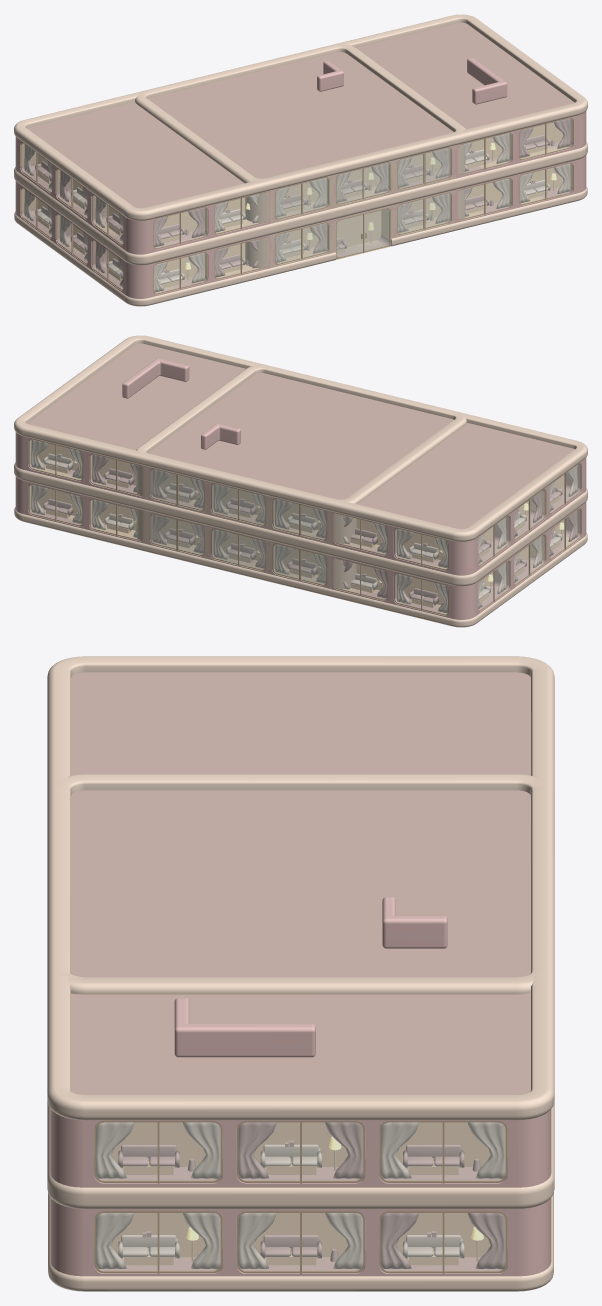
File: city-buildings-v59.glb
3 renders of one model, top to bottom at view 1: azimuth 30°, elevation 25°; view 2: azimuth 150°, elevation 25°; view 3: azimuth 270°, elevation 25°, orthographic. The views are drawn at different scales.
Visible parts, largest first — view 1: city-building-03__arch59_roof_stone, city-building-03__arch59_pillow_trim, city-building-03__room59_glass_sage, city-building-03__arch59_blush, city-building-01__arch59_pillow_trim, city-building-01__arch59_roof_stone, city-building-03__room59_warm_backing, city-building-03__room59_curtain_ivory, city-building-01__room59_glass_sage, city-building-03__room59_curtain_blush, city-building-03__arch59_champagne_frame, city-building-01__arch59_cream (+8 smaller); view 2: city-building-03__arch59_roof_stone, city-building-03__arch59_pillow_trim, city-building-01__arch59_roof_stone, city-building-03__room59_glass_sage, city-building-03__arch59_blush, city-building-01__arch59_pillow_trim, city-building-03__room59_curtain_ivory, city-building-03__room59_warm_backing, city-building-01__room59_glass_sage, city-building-01__arch59_cream, city-building-03__arch59_champagne_frame, city-building-03__room59_curtain_blush (+8 smaller); view 3: city-building-03__arch59_roof_stone, city-building-01__arch59_roof_stone, city-building-03__arch59_pillow_trim, city-building-03__room59_glass_sage, city-building-03__arch59_blush, city-building-01__arch59_pillow_trim, city-building-03__room59_warm_backing, city-building-03__room59_curtain_ivory, city-building-03__room59_curtain_blush, city-building-03__arch59_champagne_frame, city-building-05__room59_curtain_ivory, city-building-02__arch59_blush (+1 smaller).
Part boxes in pixels (x1=…): city-building-03__arch59_roof_stone: x1=27, y1=22, x2=574, y2=208; city-building-03__arch59_pillow_trim: x1=14, y1=14, x2=587, y2=306; city-building-03__room59_glass_sage: x1=22, y1=119, x2=571, y2=292; city-building-03__arch59_blush: x1=15, y1=57, x2=586, y2=298; city-building-01__arch59_pillow_trim: x1=135, y1=44, x2=465, y2=275; city-building-01__arch59_roof_stone: x1=148, y1=52, x2=453, y2=178; city-building-03__room59_warm_backing: x1=21, y1=119, x2=572, y2=294; city-building-03__room59_curtain_ivory: x1=24, y1=133, x2=570, y2=292; city-building-01__room59_glass_sage: x1=276, y1=149, x2=449, y2=262; city-building-03__room59_curtain_blush: x1=35, y1=118, x2=570, y2=287; city-building-03__arch59_champagne_frame: x1=20, y1=117, x2=573, y2=294; city-building-01__arch59_cream: x1=245, y1=144, x2=465, y2=268; city-building-03__arch59_roof_stone: x1=27, y1=343, x2=574, y2=529; city-building-03__arch59_pillow_trim: x1=14, y1=335, x2=587, y2=627; city-building-01__arch59_roof_stone: x1=148, y1=373, x2=453, y2=499; city-building-03__room59_glass_sage: x1=30, y1=440, x2=579, y2=613; city-building-03__arch59_blush: x1=15, y1=358, x2=586, y2=619; city-building-01__arch59_pillow_trim: x1=136, y1=365, x2=466, y2=596; city-building-03__room59_curtain_ivory: x1=31, y1=439, x2=577, y2=613; city-building-03__room59_warm_backing: x1=29, y1=440, x2=577, y2=615; city-building-01__room59_glass_sage: x1=152, y1=470, x2=325, y2=583; city-building-01__arch59_cream: x1=136, y1=465, x2=356, y2=589; city-building-03__arch59_champagne_frame: x1=28, y1=438, x2=581, y2=615; city-building-03__room59_curtain_blush: x1=43, y1=454, x2=577, y2=604; city-building-03__arch59_roof_stone: x1=71, y1=672, x2=530, y2=1094; city-building-01__arch59_roof_stone: x1=71, y1=790, x2=530, y2=977; city-building-03__arch59_pillow_trim: x1=47, y1=656, x2=554, y2=1291; city-building-03__room59_glass_sage: x1=97, y1=1123, x2=504, y2=1270; city-building-03__arch59_blush: x1=50, y1=998, x2=551, y2=1276; city-building-01__arch59_pillow_trim: x1=47, y1=774, x2=554, y2=994; city-building-03__room59_warm_backing: x1=94, y1=1122, x2=507, y2=1268; city-building-03__room59_curtain_ivory: x1=96, y1=1122, x2=505, y2=1268; city-building-03__room59_curtain_blush: x1=118, y1=1122, x2=505, y2=1268; city-building-03__arch59_champagne_frame: x1=94, y1=1121, x2=507, y2=1274; city-building-05__room59_curtain_ivory: x1=176, y1=1144, x2=464, y2=1258; city-building-02__arch59_blush: x1=382, y1=897, x2=447, y2=948.
Size of the model in its own units: 31.5 by 6.9 by 15.
